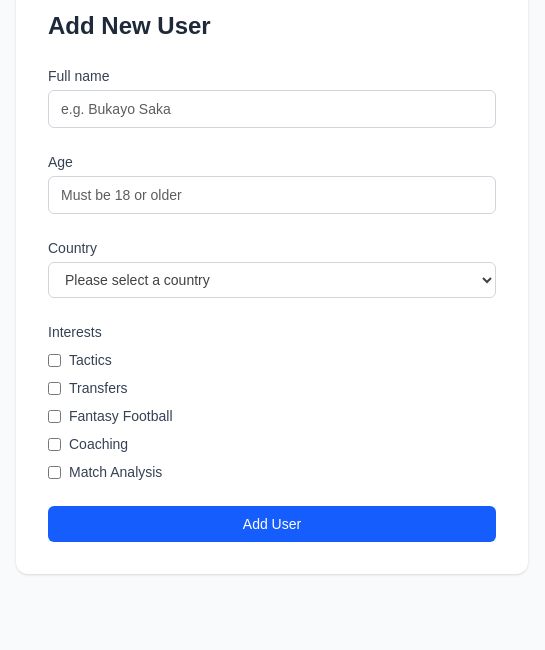
Scenario: AddUserPage › shows an error when age is under 18
Type "16" into the number field labelled "Age" at (272, 195), box [48, 176, 496, 214]
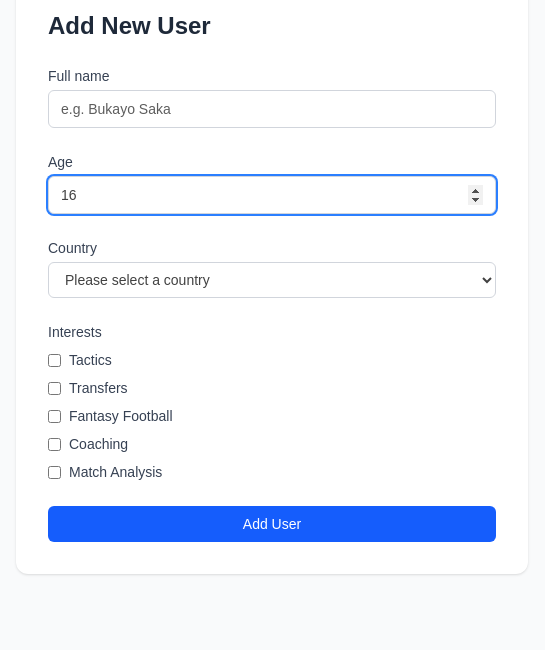
Click the button "Add User" at (272, 524), box [48, 506, 496, 542]
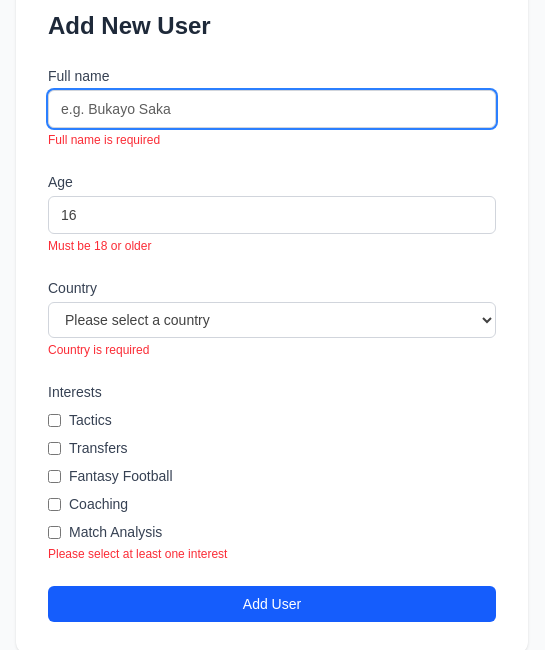
expect the text "Must be 18 or older" is shown: met, box [48, 239, 151, 253]
